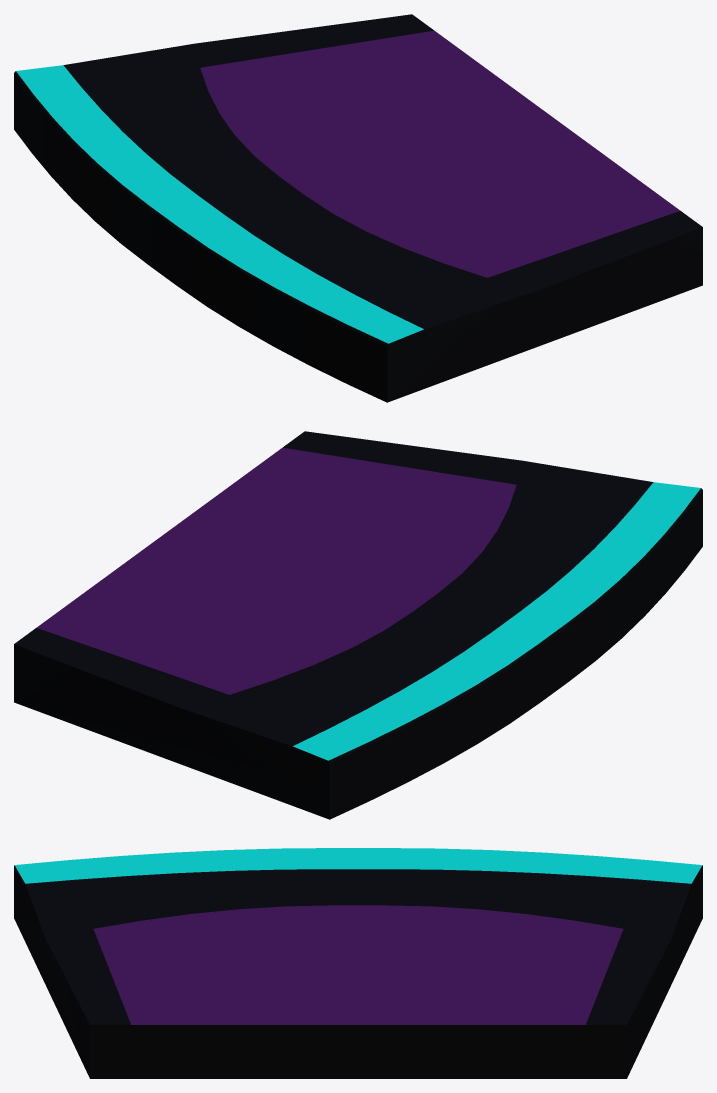
The model's file is WW_stage_prop.fbx.
The picture shows the model from 3 angles, top to bottom: view 1: azimuth 30°, elevation 25°; view 2: azimuth 150°, elevation 25°; view 3: azimuth 270°, elevation 25°; orthographic projection. The views are drawn at different scales.
Visible parts, largest first — view 1: stage_geo; view 2: stage_geo; view 3: stage_geo.
Part boxes in pixels (box(x1,y1,x2,y2)): stage_geo: box(14, 14, 702, 402); stage_geo: box(14, 431, 702, 819); stage_geo: box(14, 848, 702, 1078).
Bounding box in the file's own units: 1469 × 207 × 2404.
